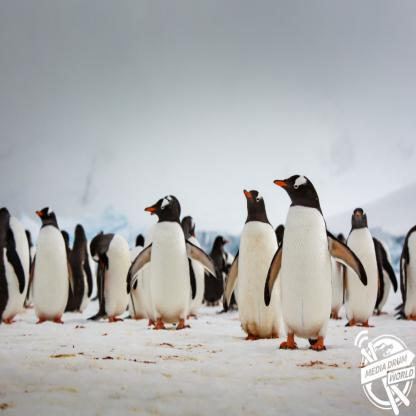Penguin: (265, 150, 371, 374), (107, 177, 228, 341), (216, 164, 294, 353), (78, 218, 144, 345), (31, 200, 93, 333), (340, 206, 396, 338)
